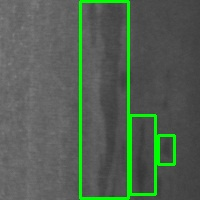inclusion: (80, 1, 128, 198), (130, 115, 155, 194), (158, 135, 174, 164)
